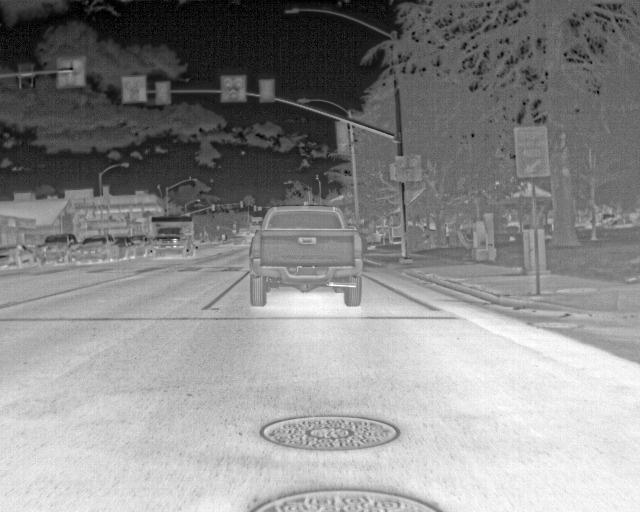car: (246, 205, 362, 306), (69, 233, 118, 263), (29, 233, 75, 264), (113, 233, 141, 260), (0, 243, 30, 267), (133, 233, 153, 259)
